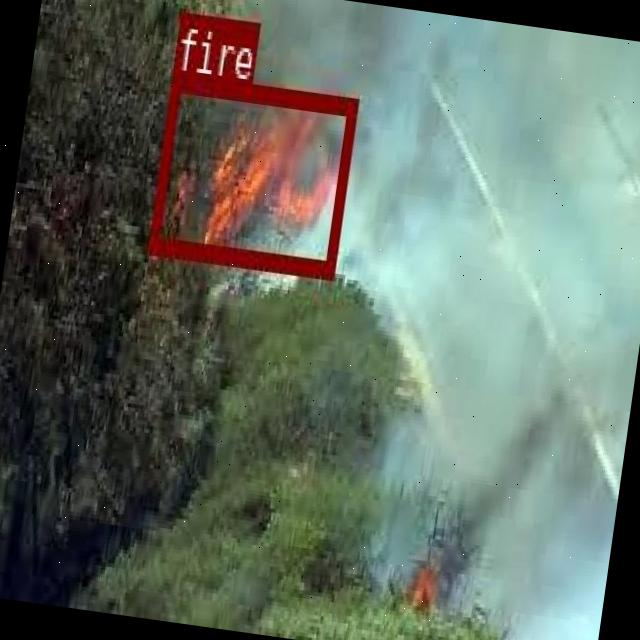fire: (148, 71, 358, 273)
